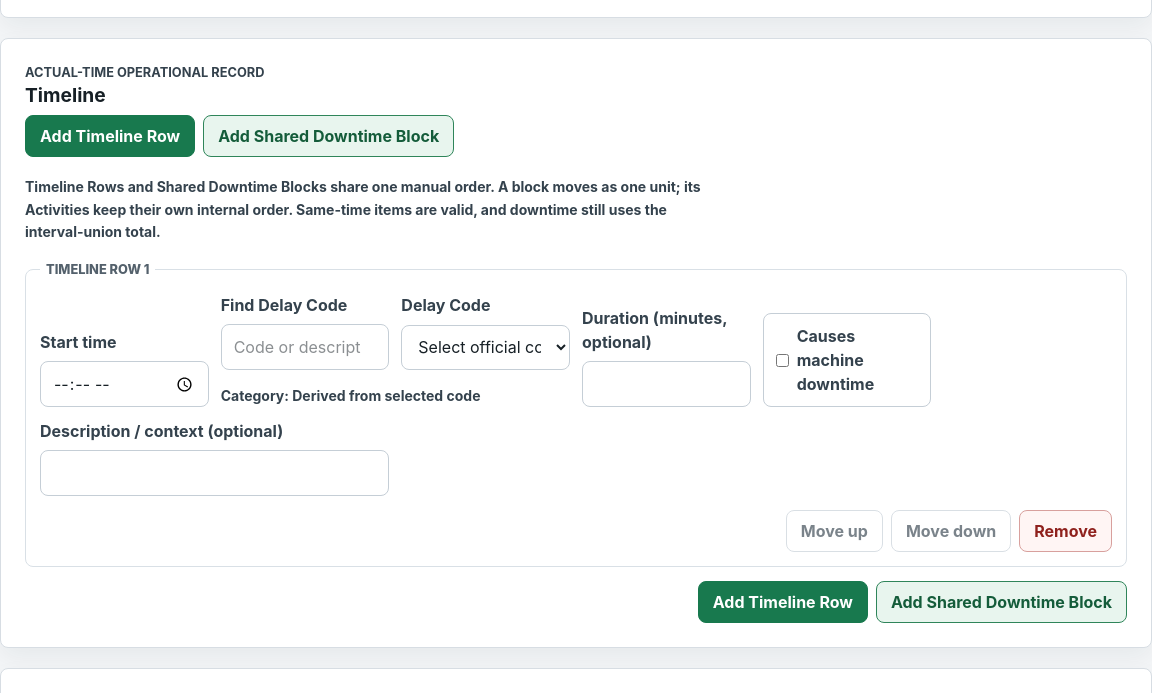
Test: DraglineDelayReportForm › lets Code 13 retain and edit its downtime state
(page scrolled)
Click the checkbox named "Causes machine downtime for row 1" at (782, 360), box [776, 354, 789, 367]
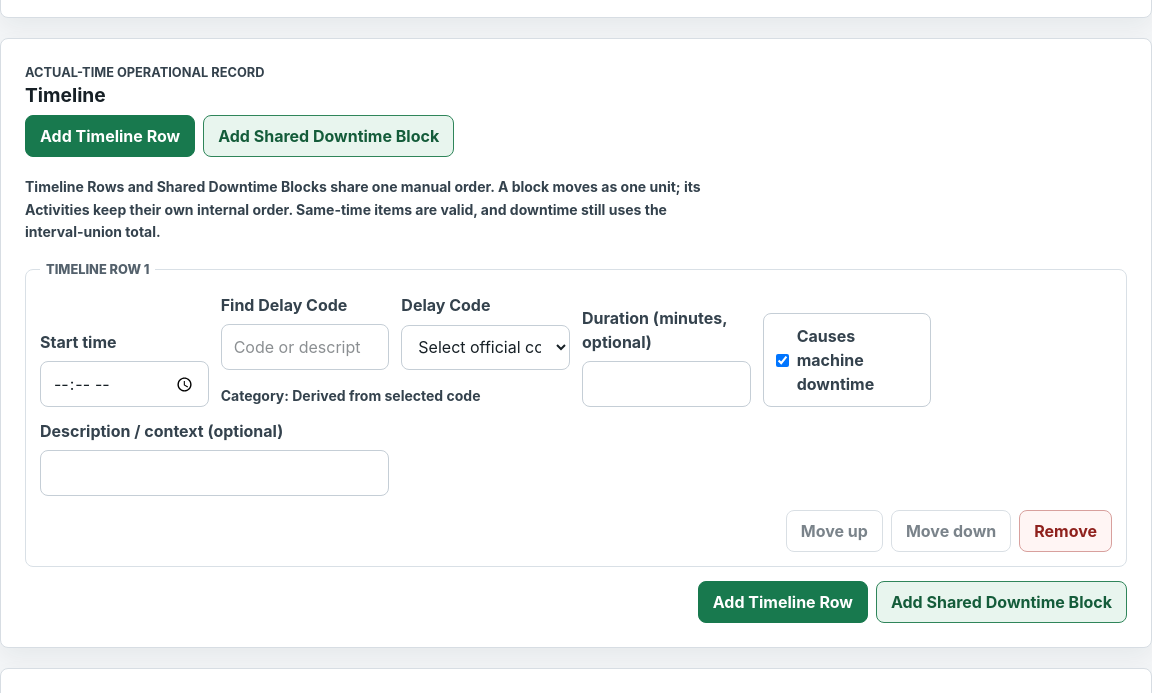
Result: the checkbox named "Causes machine downtime for row 1" is checked at [776, 354, 789, 367]
Select "13 — Shift Change" in the dropdown named "Delay Code for row 1" at (486, 347), box [401, 325, 570, 370]
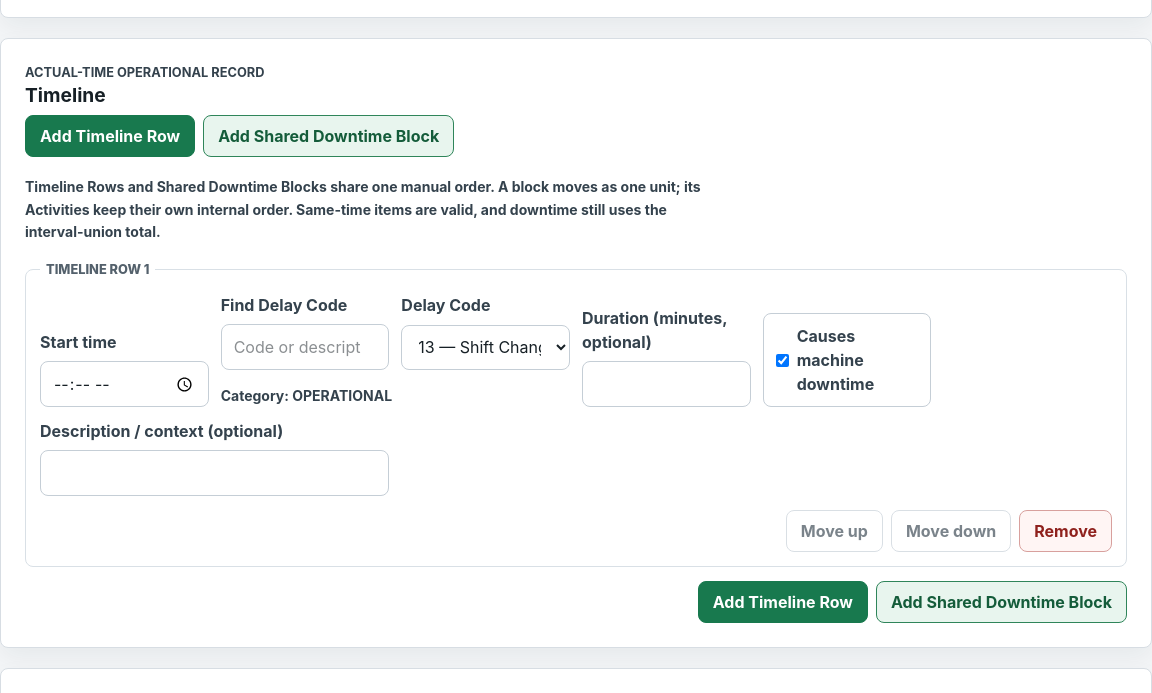
Expected: the checkbox named "Causes machine downtime for row 1" is enabled, [776, 354, 789, 367]
Result: the checkbox named "Causes machine downtime for row 1" is checked at [776, 354, 789, 367]
Type "17:20" into the time field named "Start time for row 1" at (124, 384), box [40, 361, 209, 407]
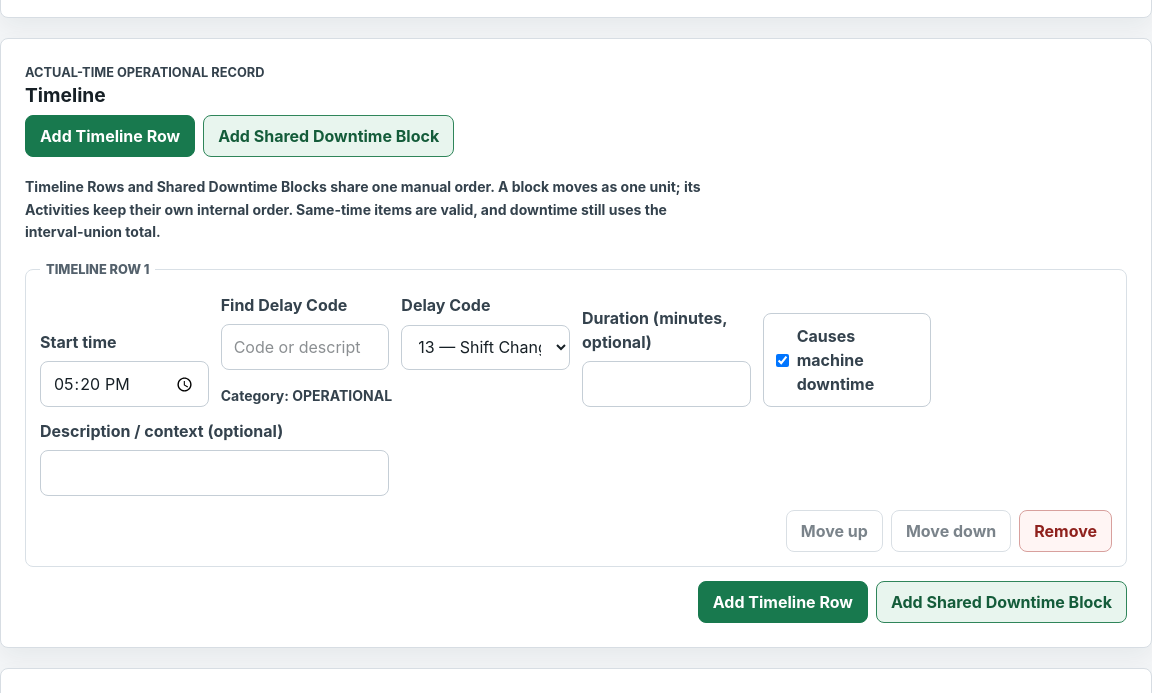
Type "10" into the number field named "Duration for row 1" at (666, 384), box [582, 361, 751, 407]
(page scrolled)
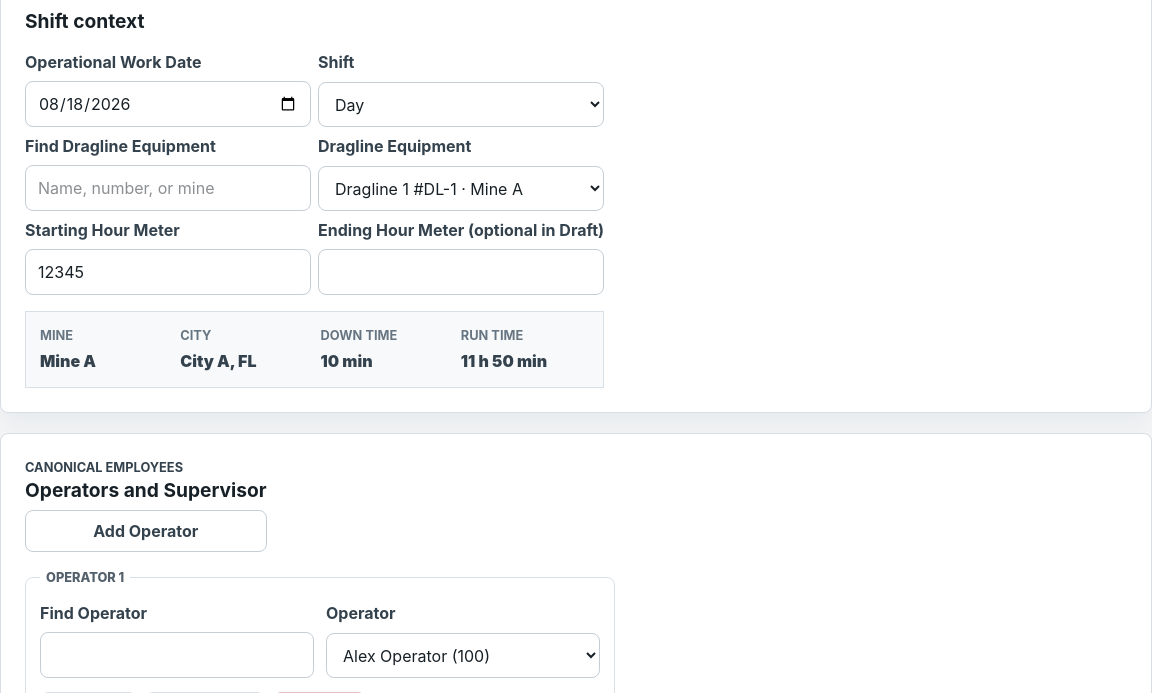
Result: the text "10 min" is shown at [320, 351, 372, 371]
Result: the text "11 h 50 min" is shown at [461, 351, 547, 371]
